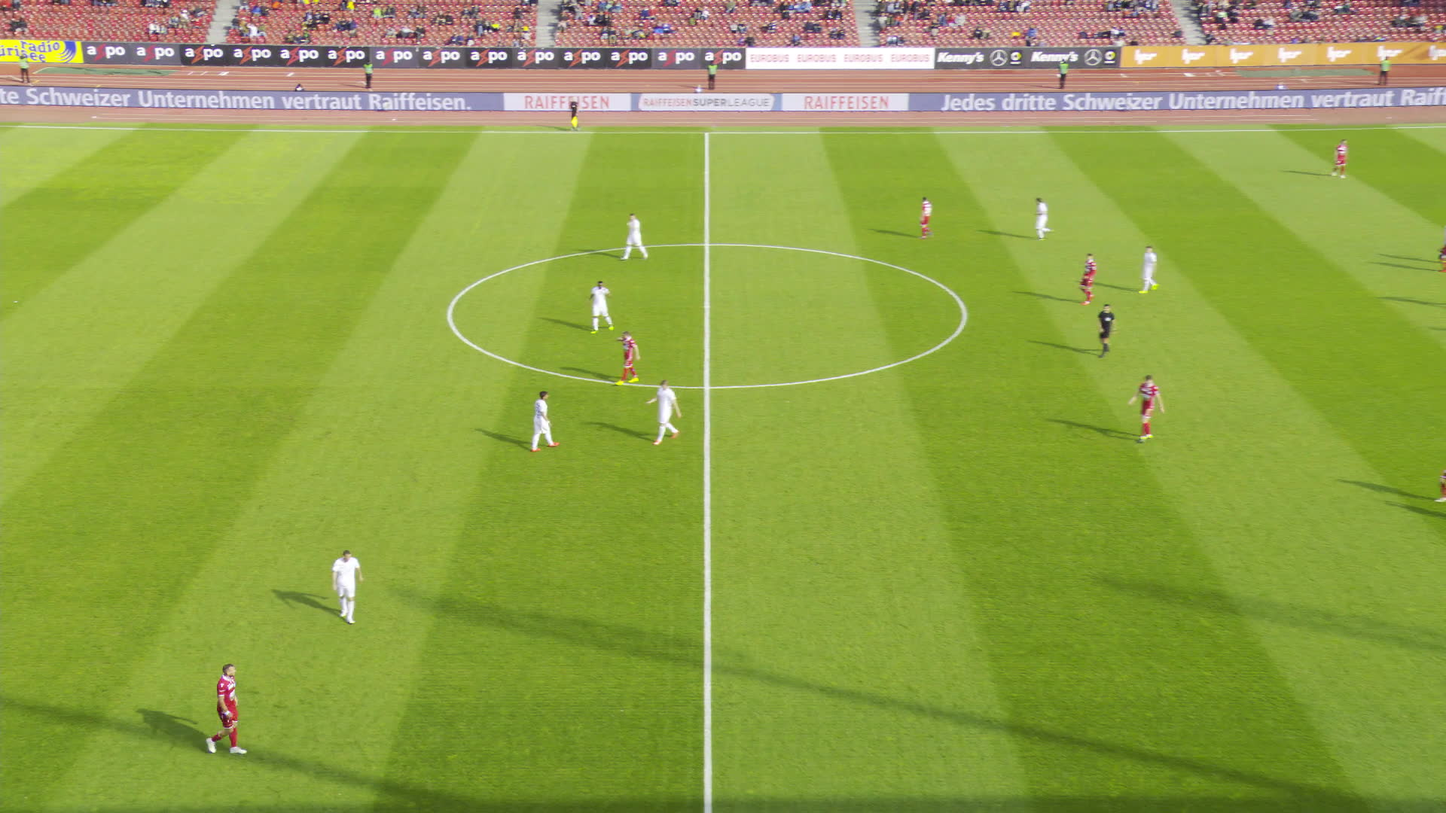player: (202, 659, 255, 757), (1135, 370, 1173, 442), (334, 543, 368, 623), (648, 376, 686, 446), (532, 386, 560, 455), (617, 327, 648, 385), (1081, 249, 1112, 306), (590, 277, 621, 334), (624, 208, 654, 262), (1142, 244, 1171, 297), (1038, 191, 1063, 243), (920, 192, 942, 240), (1337, 137, 1358, 178)
referee: (1100, 300, 1124, 361), (572, 94, 587, 131)
